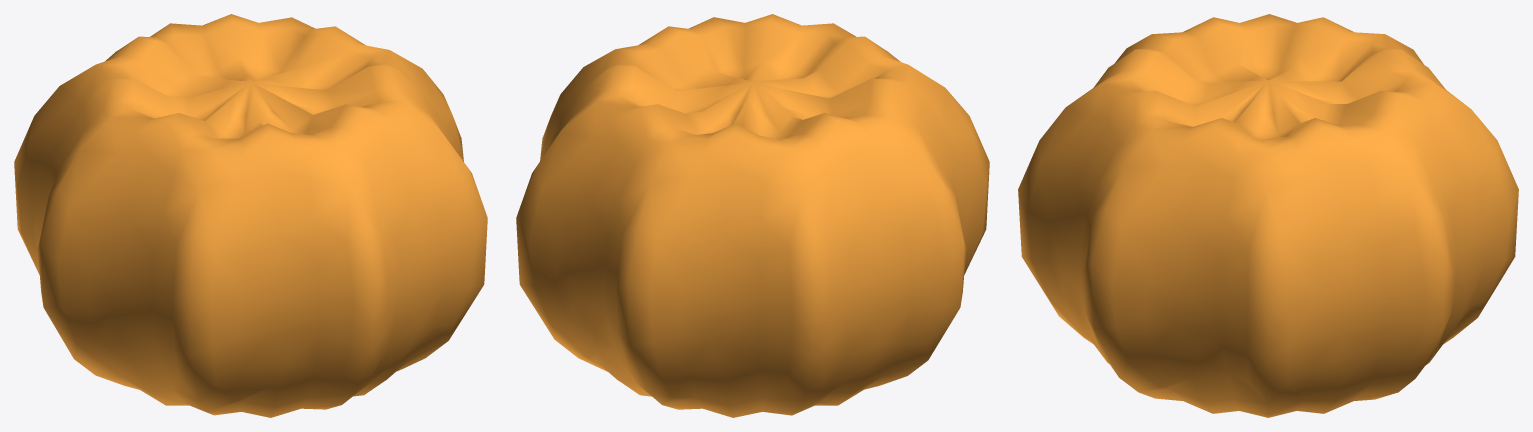
File: 2iCalabaza.fbx
The picture shows the model from 3 angles, left to right: view 1: azimuth 30°, elevation 25°; view 2: azimuth 150°, elevation 25°; view 3: azimuth 270°, elevation 25°; orthographic projection.
Parts seen in each view (by area): view 1: Pumpkin; view 2: Pumpkin; view 3: Pumpkin.
Boxes of the visible parts, left/top/right/bottom form: Pumpkin: left=14, top=14, right=487, bottom=417; Pumpkin: left=516, top=14, right=989, bottom=417; Pumpkin: left=1018, top=14, right=1518, bottom=417.
Size of the model in its own units: 295 by 197 by 301.
